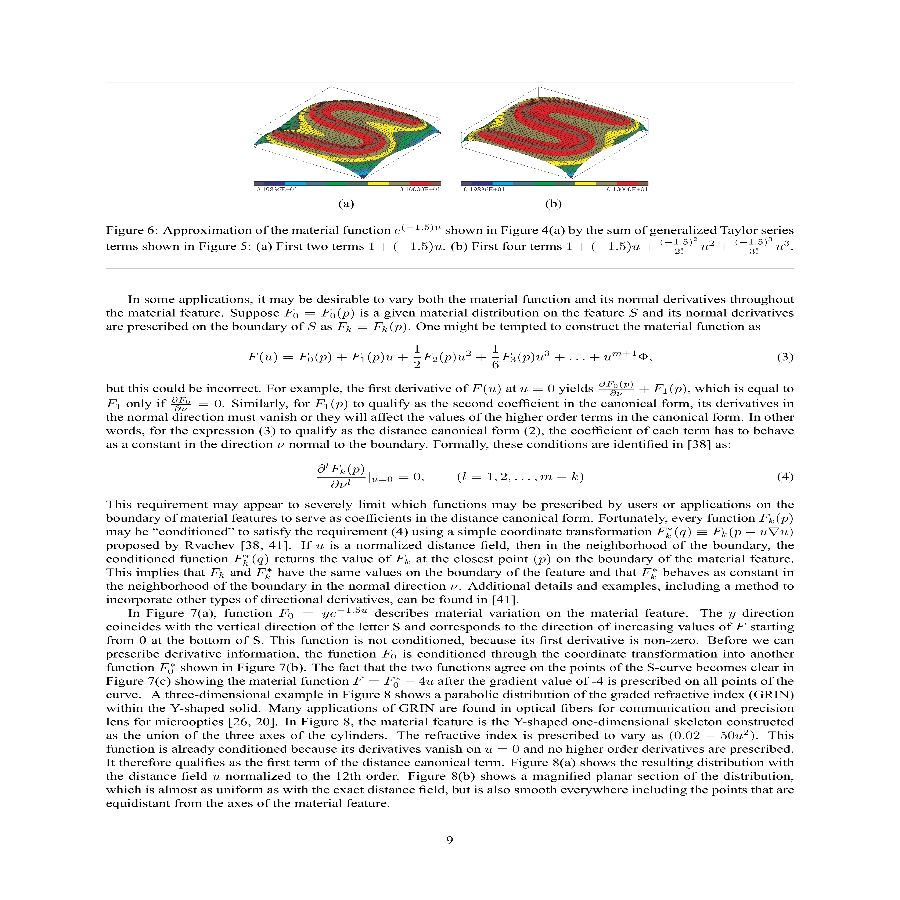eq: (242, 340, 652, 374), (314, 456, 596, 492)
